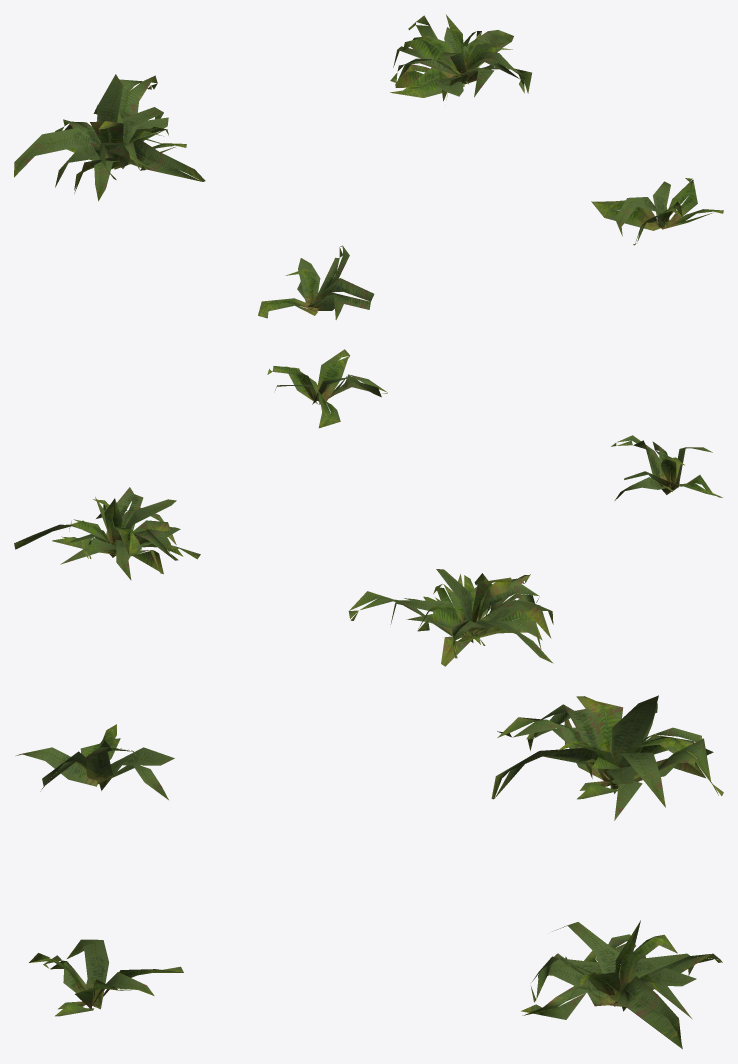
File: Bush.glb
3 views of the same model, one above another, from view 1: azimuth 30°, elevation 25°; view 2: azimuth 150°, elevation 25°; view 3: azimuth 270°, elevation 25° (orthographic). The views are drawn at different scales.
Visible parts, largest first — view 1: fern_02_b, fern_02_c, fern_02_d, fern_02_a; view 2: fern_02_b, fern_02_c, fern_02_d, fern_02_a; view 3: fern_02_b, fern_02_c, fern_02_a, fern_02_d.
Part boxes in pixels (left/top/right/bottom): fern_02_b: left=14, top=74, right=205, bottom=201; fern_02_c: left=390, top=14, right=531, bottom=101; fern_02_d: left=591, top=178, right=723, bottom=245; fern_02_a: left=258, top=245, right=374, bottom=319; fern_02_b: left=348, top=569, right=553, bottom=666; fern_02_c: left=14, top=487, right=200, bottom=580; fern_02_d: left=267, top=349, right=387, bottom=428; fern_02_a: left=611, top=435, right=722, bottom=500; fern_02_b: left=491, top=695, right=723, bottom=820; fern_02_c: left=521, top=920, right=722, bottom=1049; fern_02_a: left=16, top=724, right=174, bottom=799; fern_02_d: left=29, top=939, right=183, bottom=1016.
Size of the model in its own units: 1.49 by 0.2227 by 1.36.
1 material, 1 textured.
